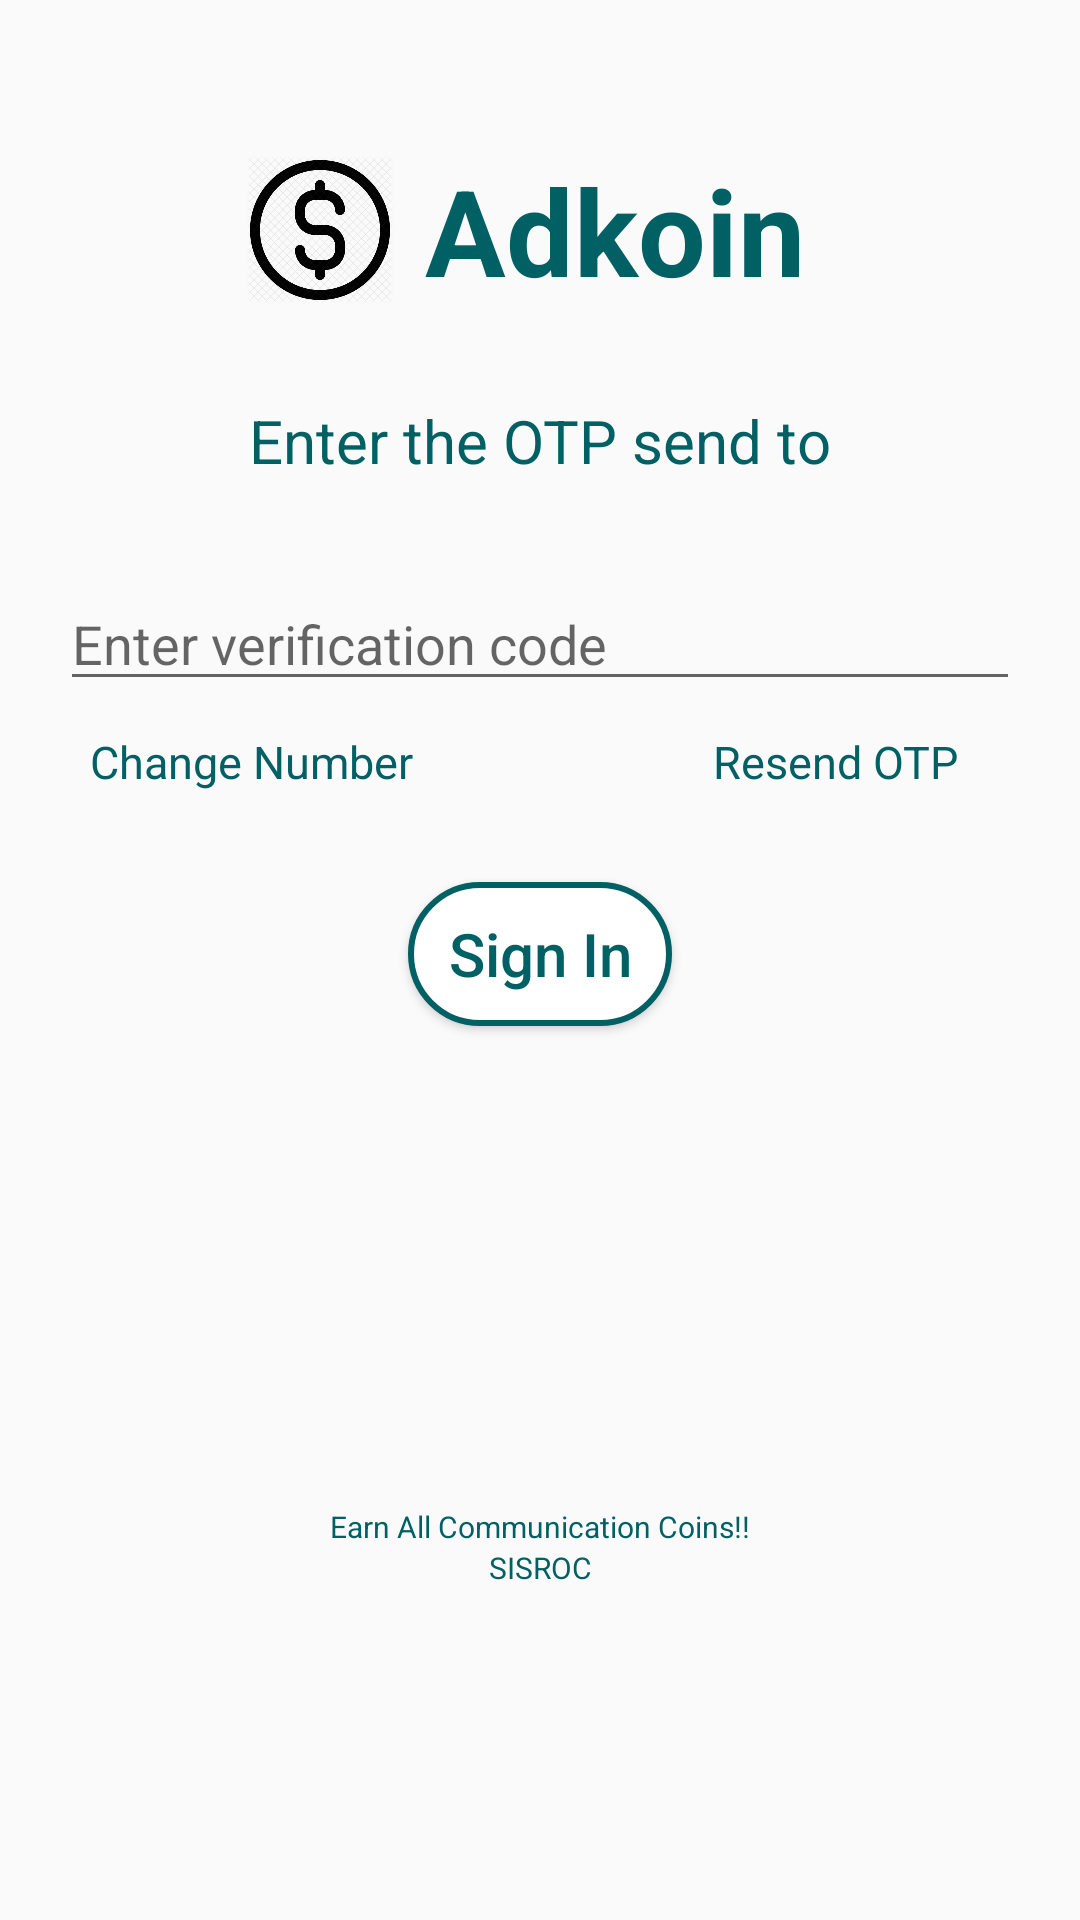

Point at icon controls on the screen. Image size 1080x1920, points as [x,y].
coin: [320,230]
